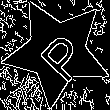P_NW: (27, 20, 88, 83)
